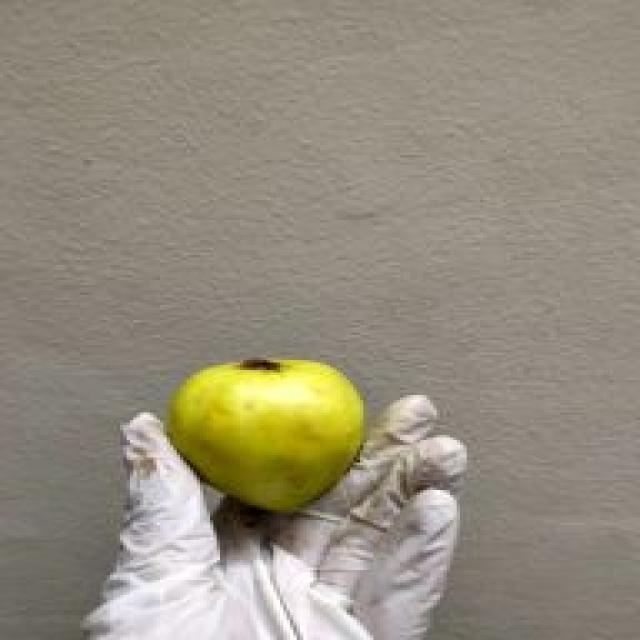Good_Guava: (163, 358, 367, 515)
